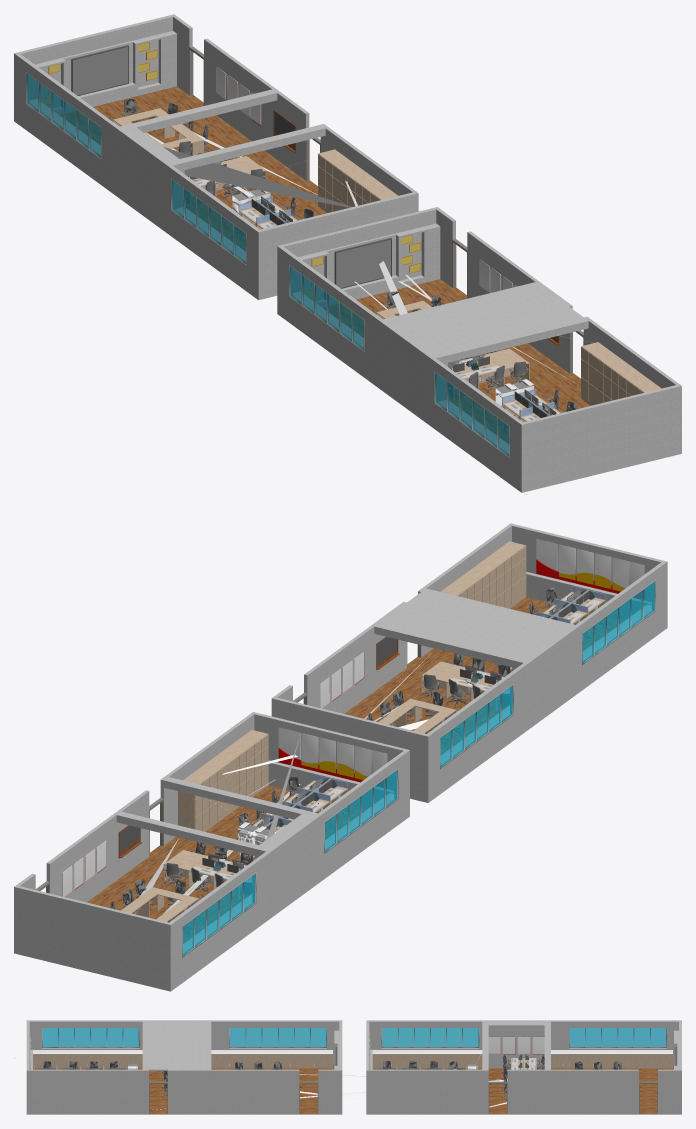
Rendered from office-room-opt.glb.
The picture shows the model from 3 angles, top to bottom: view 1: azimuth 30°, elevation 25°; view 2: azimuth 150°, elevation 25°; view 3: azimuth 270°, elevation 25°; orthographic projection. The views are drawn at different scales.
Parts seen in each view (by area): view 1: Material2 (×12), Material3 (×2); view 2: Material2 (×11), Material3 (×4); view 3: Material2 (×10), Material3 (×5).
Part boxes in pixels (box(x1,y1,x2,y2)): Material2 (×12): box(14, 14, 681, 492); Material3 (×2): box(60, 45, 590, 443); Material2 (×11): box(14, 523, 667, 991); Material3 (×4): box(87, 587, 623, 943); Material2 (×10): box(26, 1020, 681, 1114); Material3 (×5): box(33, 1054, 673, 1113).
Size of the model in its own units: 355 by 139 by 1915.
31 materials, 11 textured.
